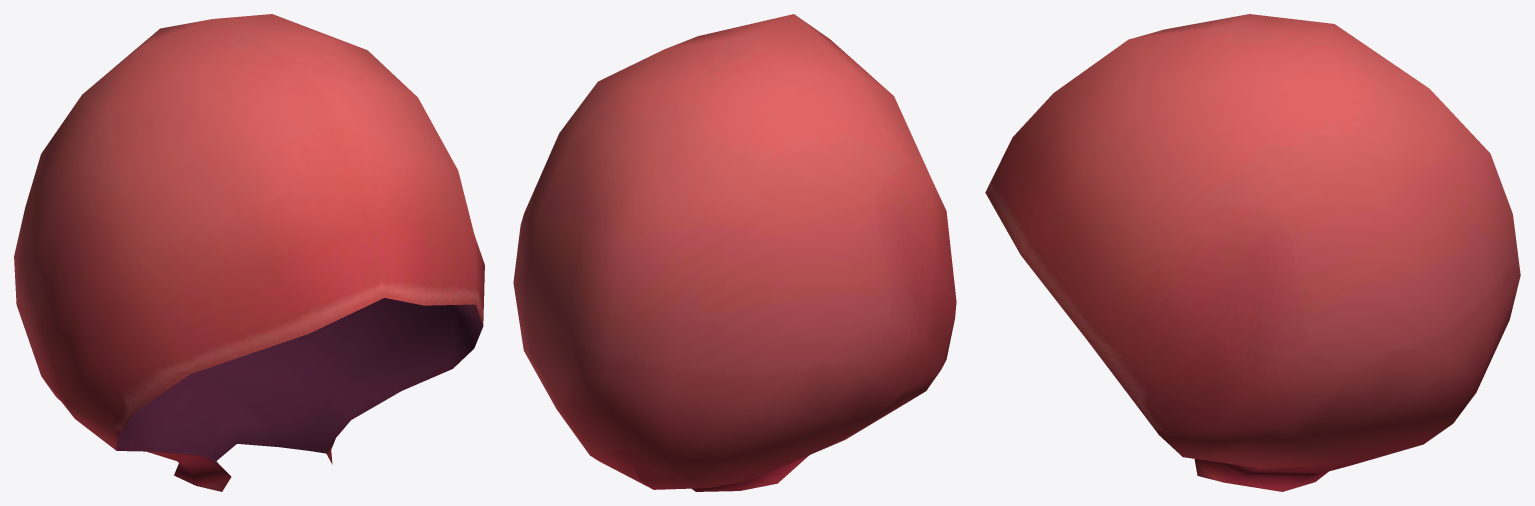
File: helm0031.fbx
3 views of the same model, side by side, from view 1: azimuth 30°, elevation 25°; view 2: azimuth 150°, elevation 25°; view 3: azimuth 270°, elevation 25° (orthographic). The views are drawn at different scales.
Parts seen in each view (by area): view 1: helm0032_m; view 2: helm0032_m; view 3: helm0032_m.
Part boxes in pixels (x1,y1,x2,y2): helm0032_m: (14, 14, 484, 491); helm0032_m: (513, 14, 956, 491); helm0032_m: (985, 14, 1520, 491).
Size of the model in its own units: 0.4145 by 0.435 by 0.4796.
1 material, 1 textured.
